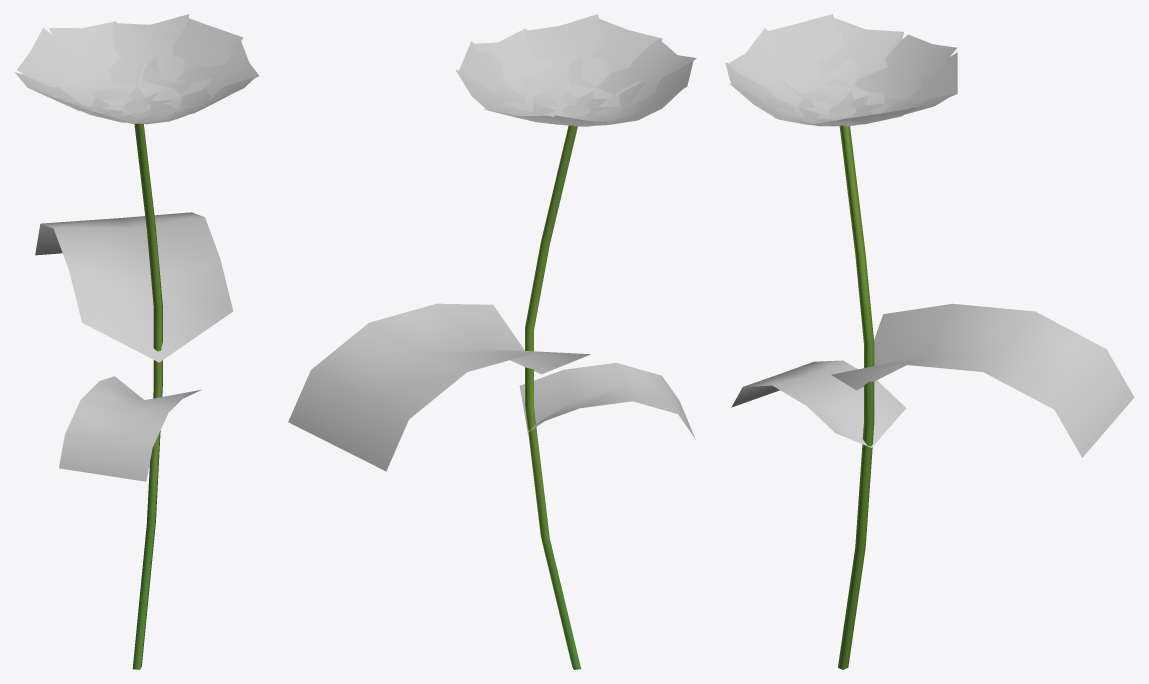
Rendered from SM_flower_12.fbx.
The picture shows the model from 3 angles, left to right: view 1: azimuth 30°, elevation 25°; view 2: azimuth 150°, elevation 25°; view 3: azimuth 270°, elevation 25°; orthographic projection.
Parts seen in each view (by area): view 1: SM_flower_12; view 2: SM_flower_12; view 3: SM_flower_12.
Part boxes in pixels (box(x1,y1,x2,y2)): SM_flower_12: box(14, 14, 259, 669); SM_flower_12: box(288, 14, 696, 669); SM_flower_12: box(725, 14, 1134, 669).
Size of the model in its own units: 23.44 by 49.29 by 30.34.
